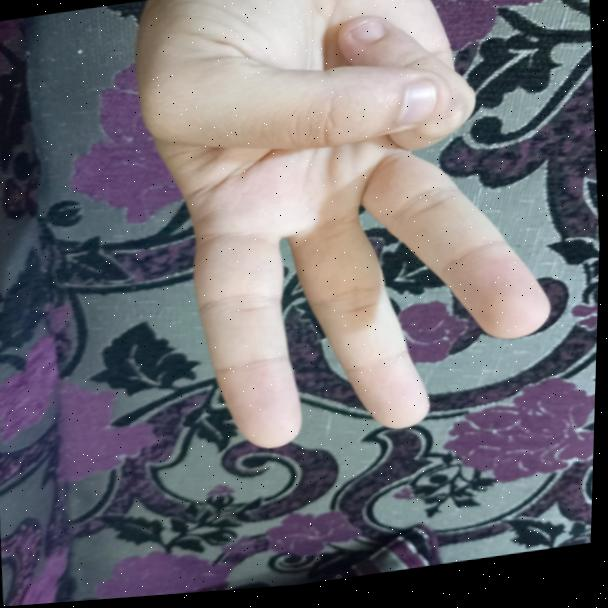five: (118, 0, 565, 476)
